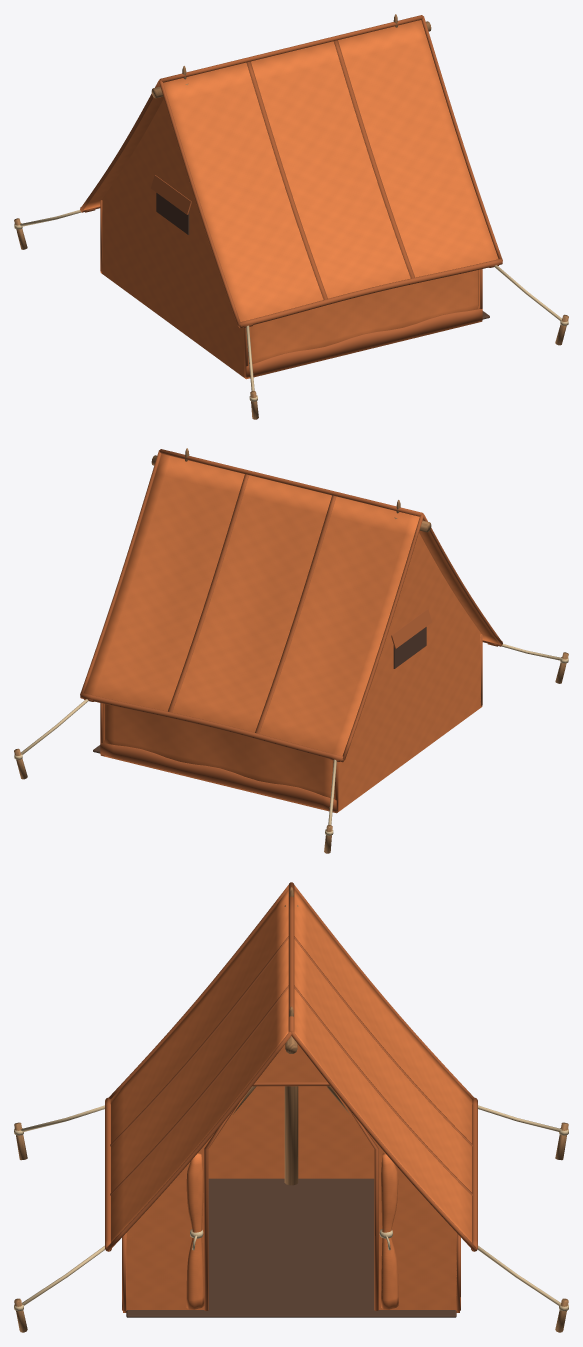
3 renders of one model, top to bottom at view 1: azimuth 30°, elevation 25°; view 2: azimuth 150°, elevation 25°; view 3: azimuth 270°, elevation 25°, orthographic. The views are drawn at different scales.
Visible parts, largest first — view 1: C04_craft_canvas, C04_craft_binding, C04_craft_hemp, C04_craft_wood, C04_craft_dark; view 2: C04_craft_canvas, C04_craft_binding, C04_craft_hemp, C04_craft_wood, C04_craft_dark; view 3: C04_craft_canvas, C04_craft_dark, C04_craft_binding, C04_craft_wood, C04_craft_hemp.
Part boxes in pixels (bbox=[...]): C04_craft_canvas: bbox=[81, 20, 498, 379]; C04_craft_binding: bbox=[80, 15, 502, 377]; C04_craft_hemp: bbox=[14, 210, 568, 401]; C04_craft_wood: bbox=[14, 14, 568, 419]; C04_craft_dark: bbox=[156, 193, 489, 319]; C04_craft_canvas: bbox=[84, 454, 501, 813]; C04_craft_binding: bbox=[80, 449, 502, 811]; C04_craft_hemp: bbox=[14, 644, 568, 835]; C04_craft_wood: bbox=[14, 448, 568, 853]; C04_craft_dark: bbox=[93, 627, 426, 753]; C04_craft_canvas: bbox=[108, 889, 474, 1312]; C04_craft_dark: bbox=[126, 1178, 456, 1317]; C04_craft_binding: bbox=[105, 882, 477, 1310]; C04_craft_wood: bbox=[14, 887, 568, 1332]; C04_craft_hemp: bbox=[14, 1105, 568, 1310].
Bounding box in the file's own units: 3.23 × 2.5 × 4.22.
Materials: 5 (2 with a texture image).
